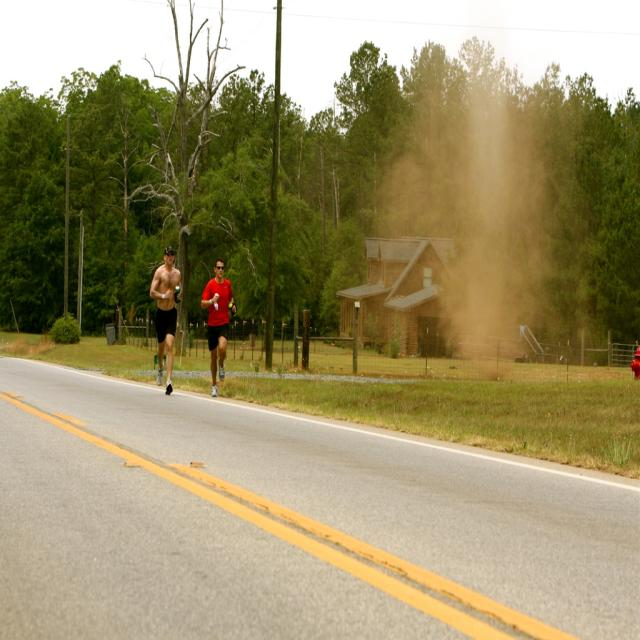fire_hydrant: (632, 344, 640, 380)
